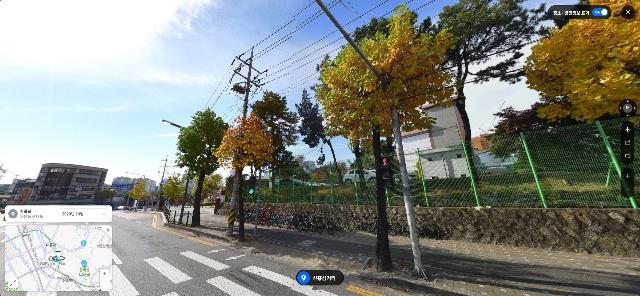ginkgo: (316, 1, 456, 273), (518, 0, 640, 124), (211, 112, 278, 241)
other: (416, 0, 552, 180), (317, 8, 399, 185), (173, 108, 230, 227), (294, 87, 342, 184), (250, 89, 300, 181)
